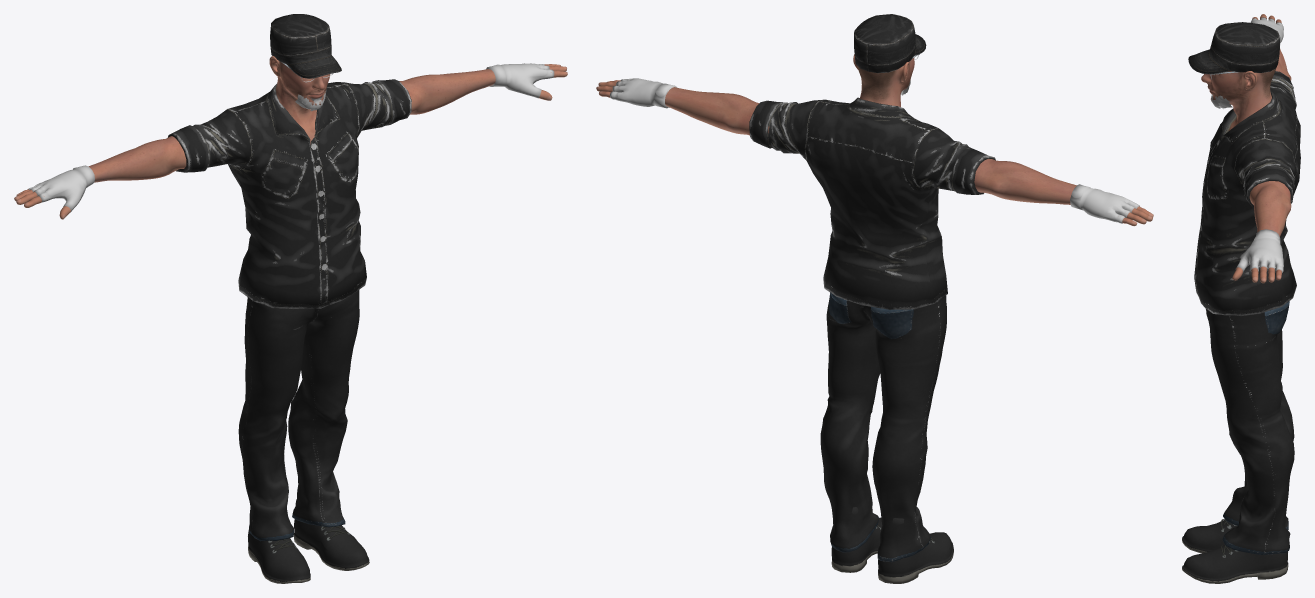
File: SteveModel.obj
3 renders of one model, left to right at view 1: azimuth 30°, elevation 25°; view 2: azimuth 150°, elevation 25°; view 3: azimuth 270°, elevation 25°, orthographic.
Parts seen in each view (by area): view 1: Tops, Bottoms, Body, Shoes, Hats, Gloves; view 2: Tops, Bottoms, Body, Hats, Shoes, Gloves; view 3: Tops, Bottoms, Body, Shoes, Hats, Gloves, Beards.
Boxes of the visible parts, x1,y1,x2,y2 form: Tops: (168,79,411,309); Bottoms: (238,290,359,541); Body: (14,56,567,219); Shoes: (248,477,369,583); Hats: (270,14,341,78); Gloves: (27,63,554,212); Tops: (749,97,995,309); Bottoms: (820,292,946,562); Body: (596,54,1153,226); Hats: (854,14,926,73); Shoes: (831,507,953,583); Gloves: (610,78,1139,223); Tops: (1194,71,1300,316); Bottoms: (1205,301,1294,554); Body: (1201,14,1291,283); Shoes: (1182,519,1288,583); Hats: (1188,22,1279,74); Gloves: (1236,17,1283,272); Beards: (1210,94,1233,109).
Bounding box in the file's own units: 194 × 181 × 36.58.
